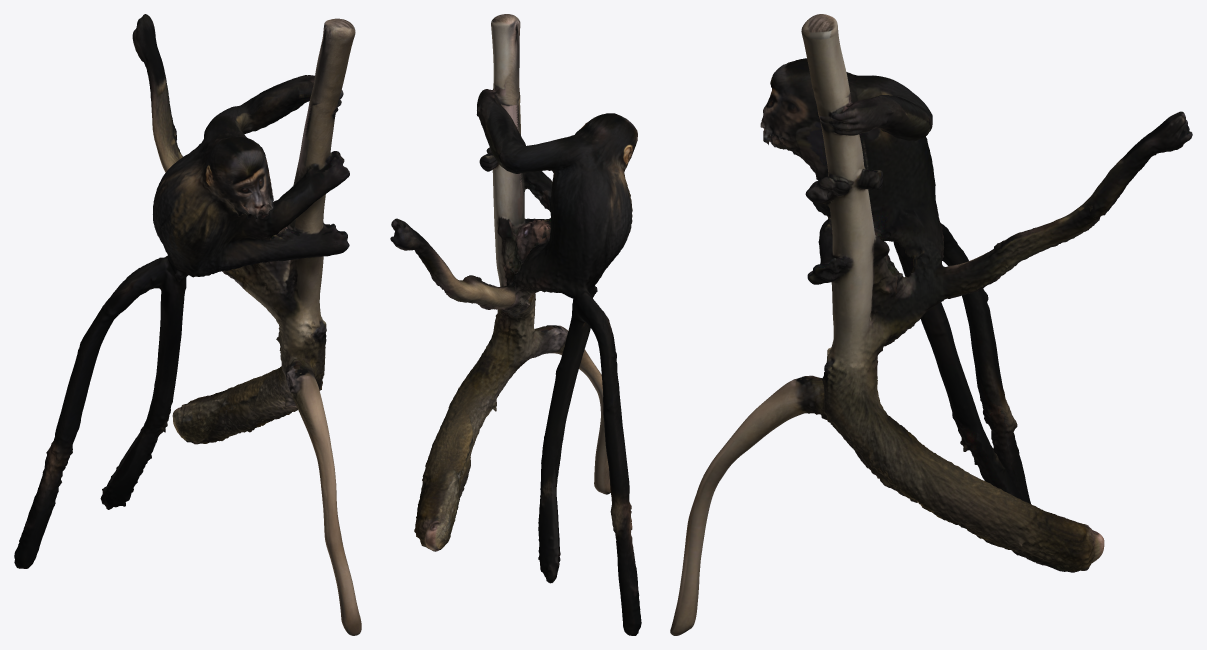
Rendered from Monkey_in_the_Trees_0821050058_texture.fbx.
3 renders of one model, left to right at view 1: azimuth 30°, elevation 25°; view 2: azimuth 150°, elevation 25°; view 3: azimuth 270°, elevation 25°, orthographic. The views are drawn at different scales.
Parts seen in each view (by area): view 1: input; view 2: input; view 3: input.
Boxes of the visible parts, bbox=[...] form: input: bbox=[14, 14, 361, 635]; input: bbox=[390, 14, 641, 635]; input: bbox=[670, 14, 1192, 635].
Size of the model in its own units: 93.31 by 199 by 146.
1 material, 1 textured.
